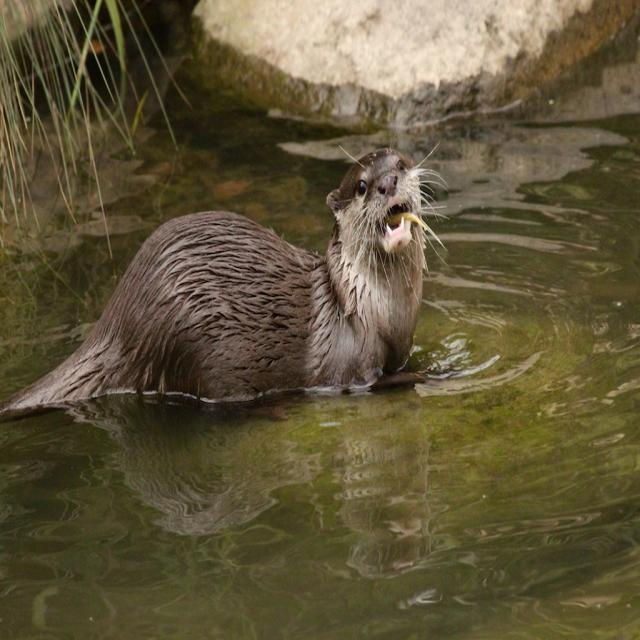otter: (107, 150, 425, 394)
